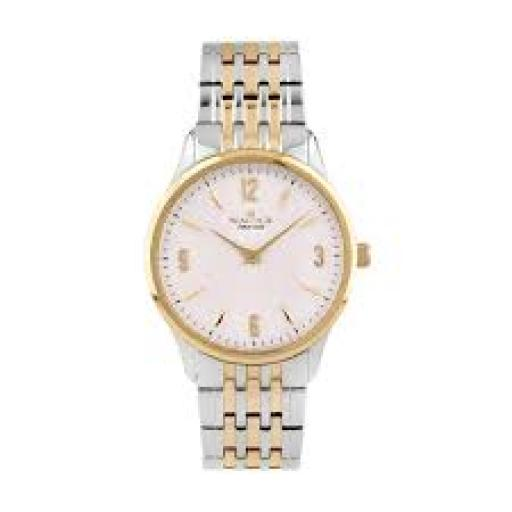KolSaati: (147, 30, 390, 488)
